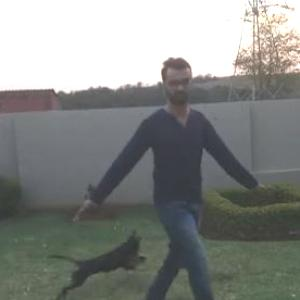land: (87, 74, 264, 299)
